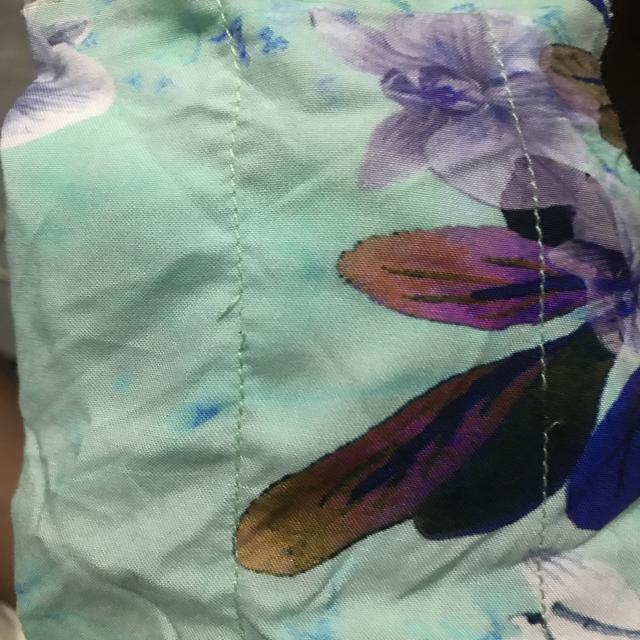broken: (202, 282, 276, 350)
good: (214, 168, 260, 252)
